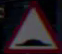Speed Breaker ahead: (10, 7, 52, 46)
